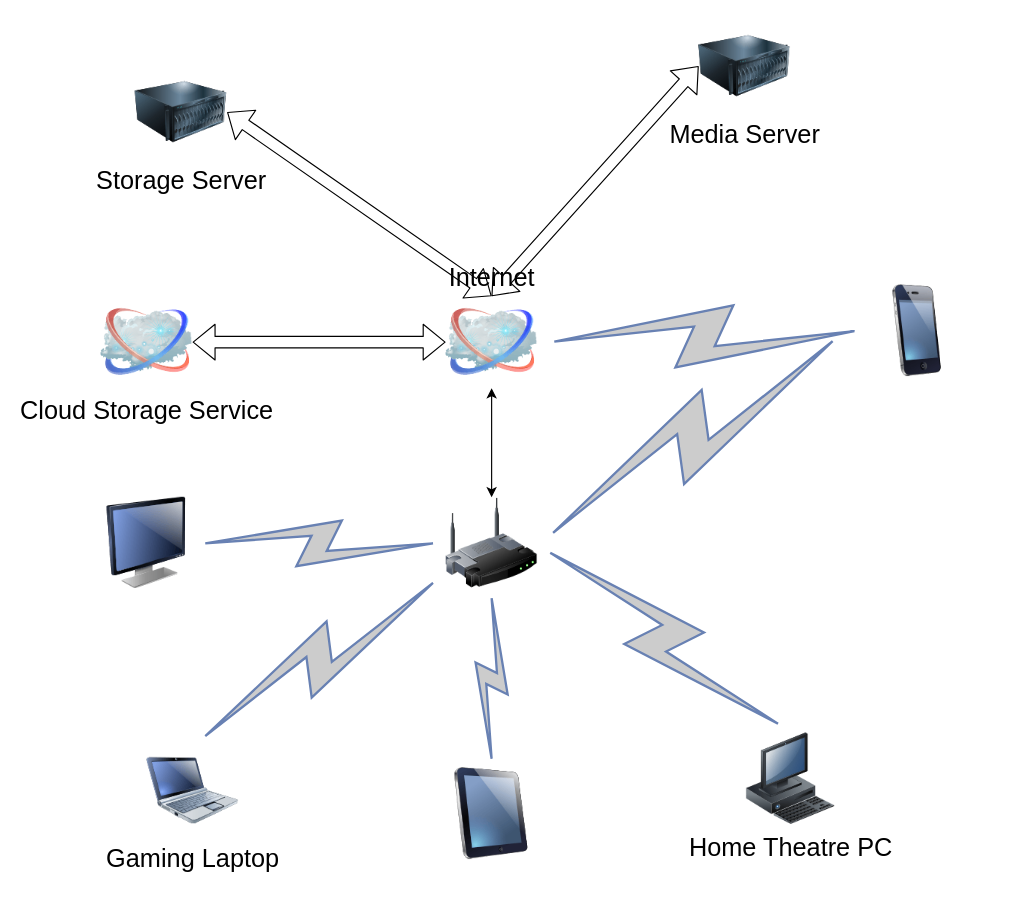
This 1010x917 diagram has some shape labels left out. Here are the shapes that lost their labels. From the top down, the centre of each, then its label:
(x=917, y=330): Smart Phone
(x=146, y=543): Smart TV
(x=491, y=813): Tablet
